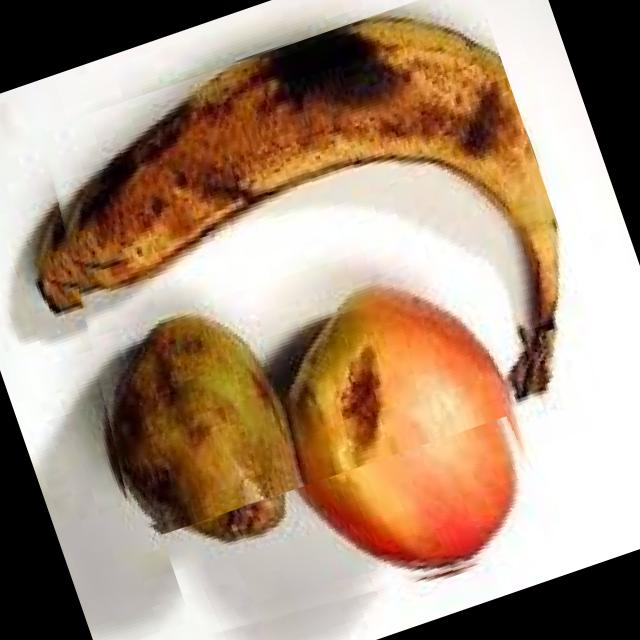Organic: (0, 0, 609, 540), (160, 410, 563, 640)
